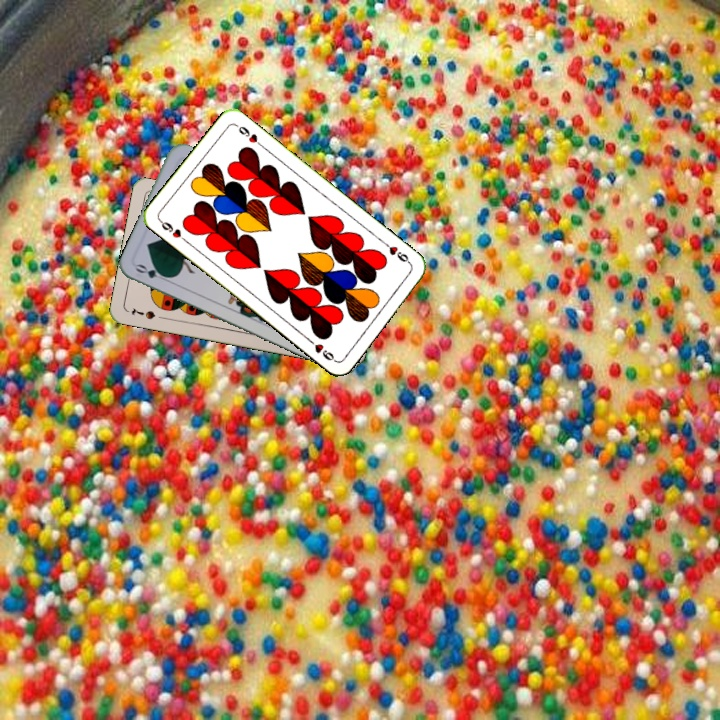GO: (132, 260, 172, 284)
H9: (379, 238, 414, 268), (155, 216, 190, 245)
S7: (127, 303, 158, 322)
